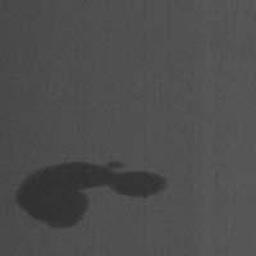Oil spot: (15, 162, 166, 228)
